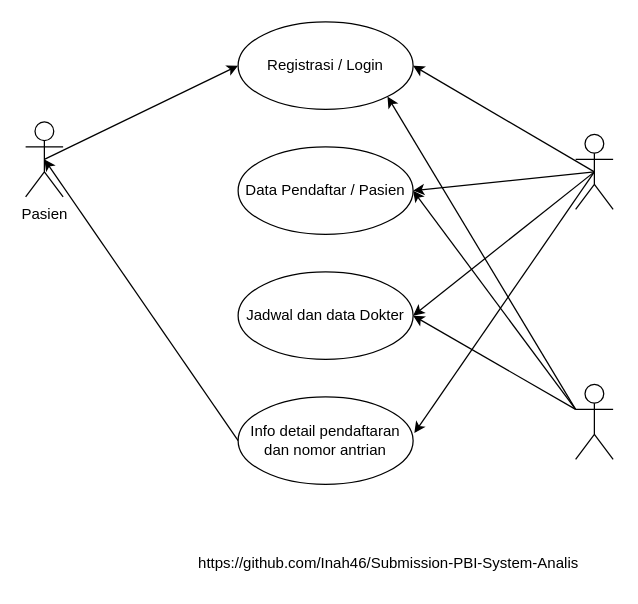
Some shapes in this 638 by 604 pixel diagram are drawn without their labels. Here are the shapes that lost their labels. From the top down, the centre of each, then its label:
At point 593,171: "Admin".
At point 593,421: "Dokter".
